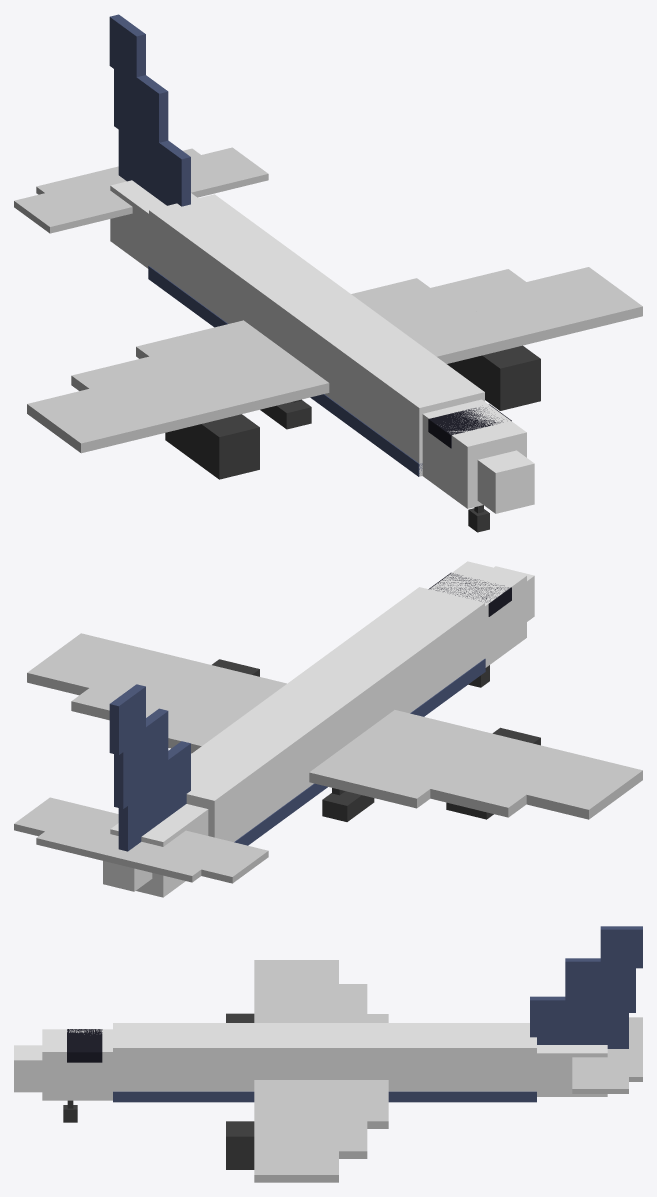
Rendered from cargo_plane.obj.
The picture shows the model from 3 angles, top to bottom: view 1: azimuth 30°, elevation 25°; view 2: azimuth 150°, elevation 25°; view 3: azimuth 270°, elevation 25°; orthographic projection. The views are drawn at different scales.
Size of the model in its own units: 36 by 15.05 by 44.5.
